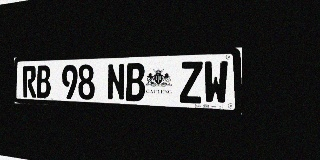8: (78, 64, 95, 100)
9: (62, 65, 78, 99)
B: (126, 63, 145, 102), (36, 65, 51, 98)
N: (107, 63, 125, 101)
R: (23, 66, 36, 98)
W: (204, 61, 228, 105)
Z: (180, 61, 203, 104)
